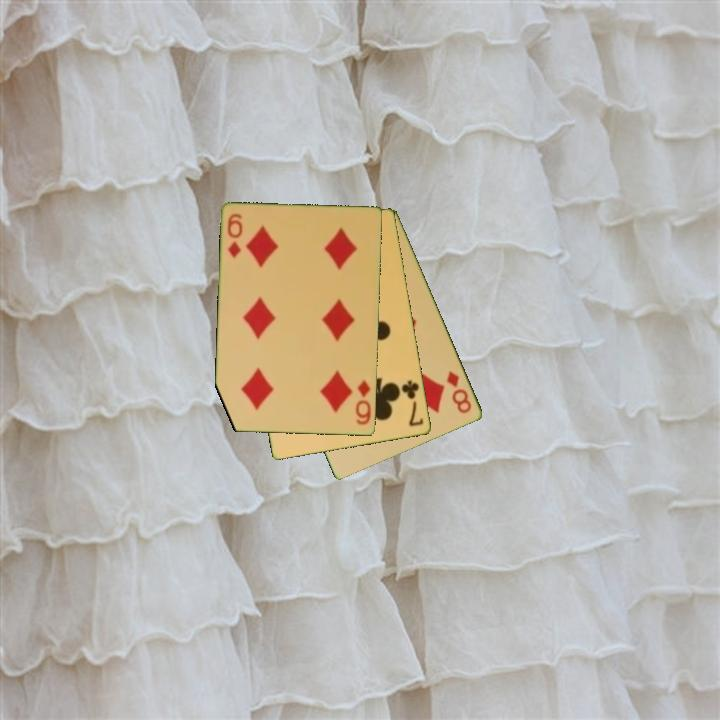6d: (352, 377, 374, 428), (224, 210, 246, 261)
7c: (398, 377, 427, 430)
8d: (443, 367, 475, 417)
